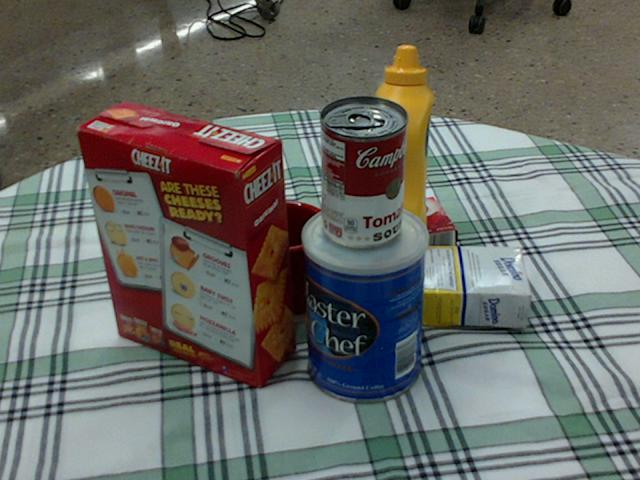cracker_box: (73, 103, 296, 385)
gelatin_box: (358, 197, 455, 262)
master_chef_can: (301, 201, 427, 403)
mug: (232, 201, 329, 315)
mustard_bottle: (370, 46, 432, 248)
potted_meat_can: (151, 204, 252, 290)
sugar_box: (342, 244, 533, 324)
tomato_soup_can: (317, 95, 405, 247)
tuna_fish_can: (165, 176, 252, 248)
